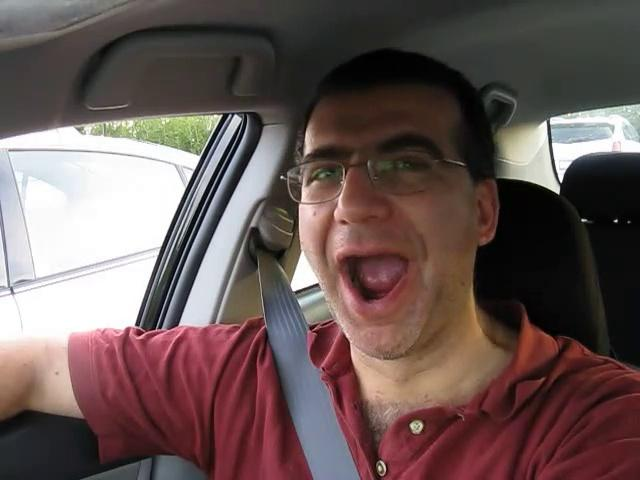open_eyeL: (292, 153, 367, 200)
open_eyeR: (371, 145, 454, 193)
yawn: (317, 235, 437, 322)
